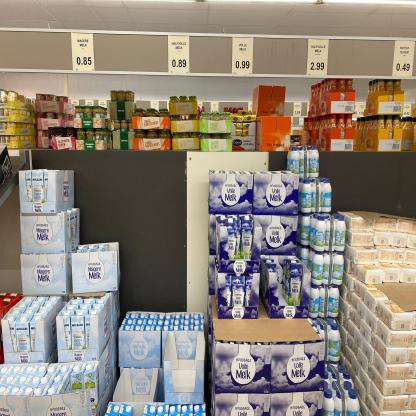prtg: (72, 33, 96, 72), (307, 39, 330, 77), (169, 37, 191, 75), (232, 38, 254, 75), (393, 42, 415, 78)
